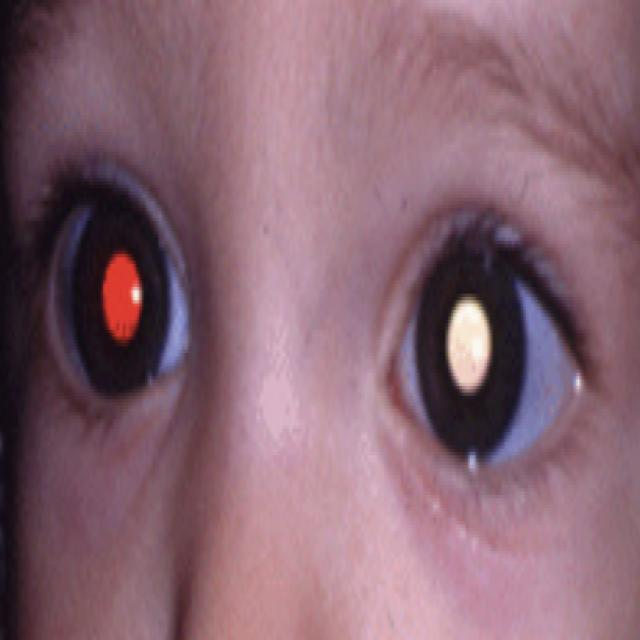reflexo-alterado: (419, 243, 528, 469)
reflexo-normal: (70, 195, 176, 392)
